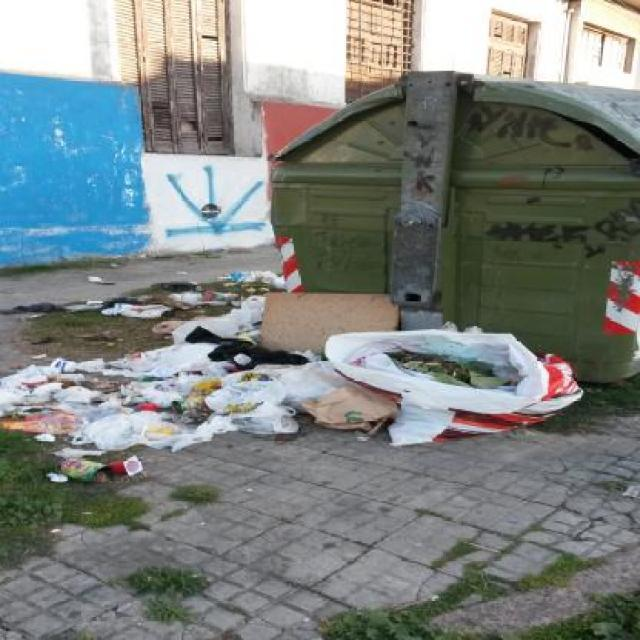garbage: (2, 351, 589, 428), (92, 292, 406, 346), (28, 429, 154, 488), (225, 268, 304, 290), (86, 271, 122, 288)
